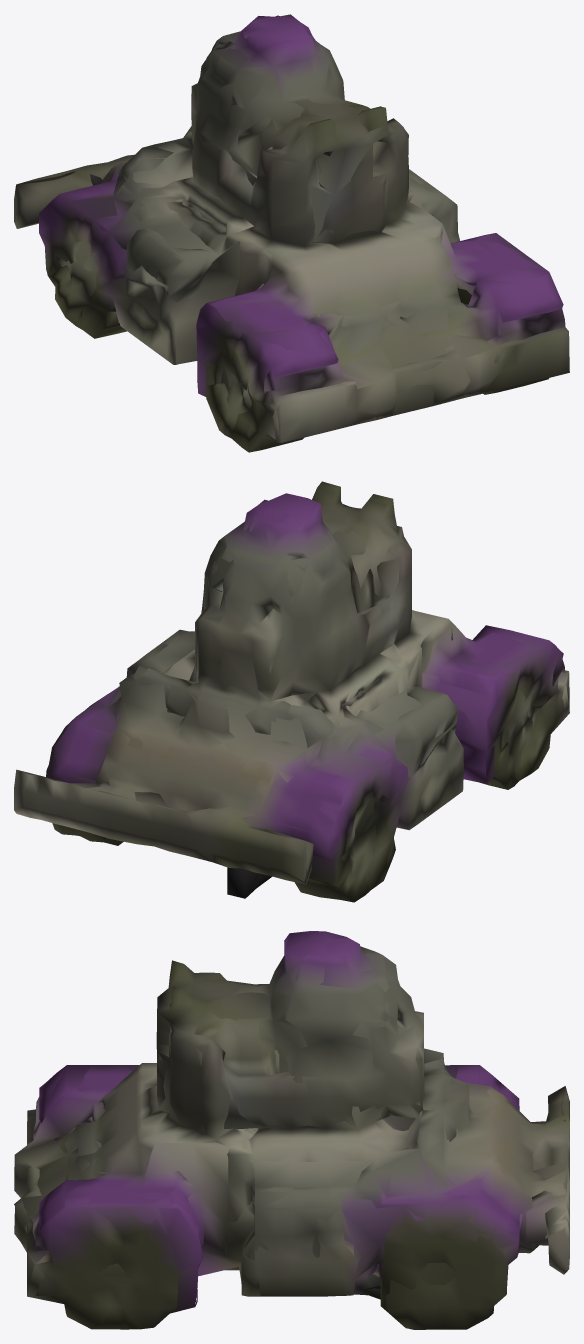
The model's file is gatling_tank.glb.
3 views of the same model, one above another, from view 1: azimuth 30°, elevation 25°; view 2: azimuth 150°, elevation 25°; view 3: azimuth 270°, elevation 25° (orthographic).
Parts seen in each view (by area): view 1: gattling_tank; view 2: gattling_tank; view 3: gattling_tank.
Boxes of the visible parts, x1=… form: gattling_tank: x1=14, y1=14, x2=569, y2=452; gattling_tank: x1=14, y1=481, x2=569, y2=902; gattling_tank: x1=14, y1=931, x2=569, y2=1329.
Bounding box in the file's own units: 2.23 × 2.58 × 3.62.
